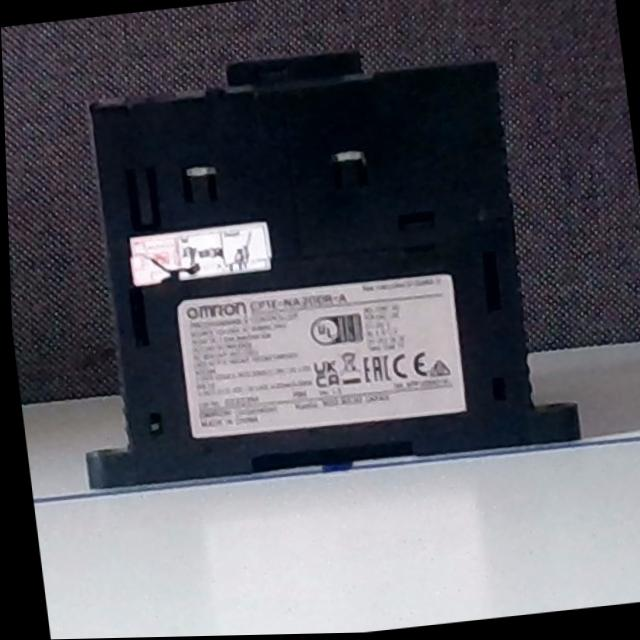plc: (41, 27, 582, 496)
